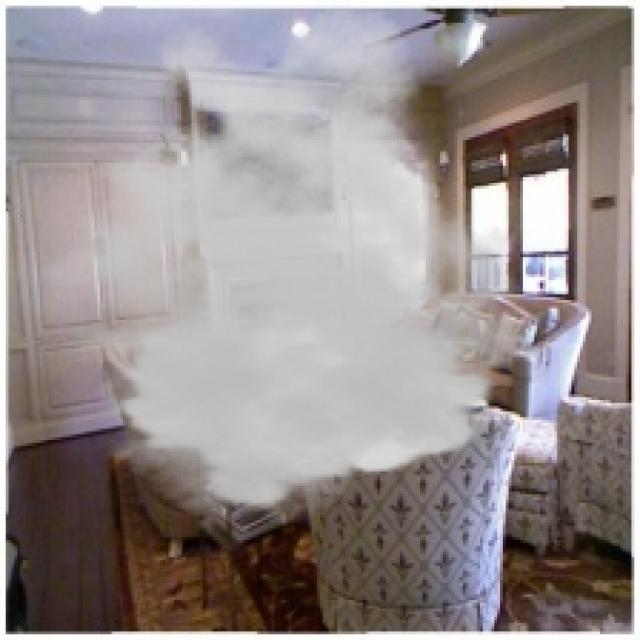smoke: (14, 3, 546, 526)
